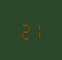one: (31, 19, 42, 39)
two: (19, 20, 30, 40)
